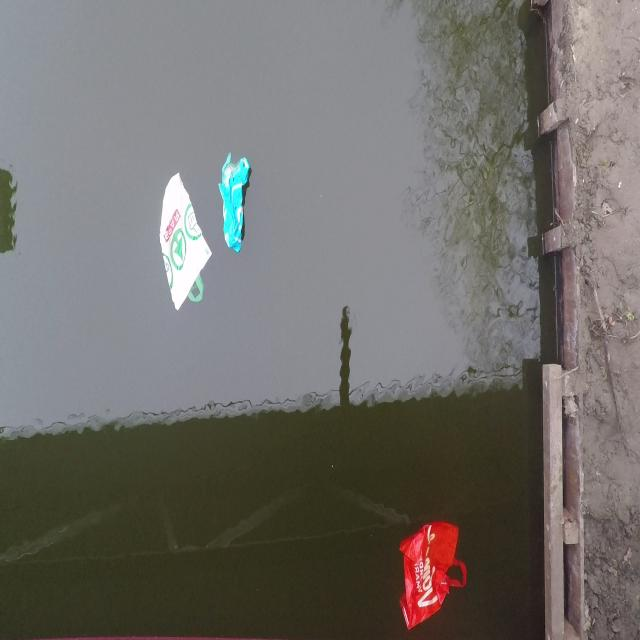Sac plastique: (388, 515, 473, 636), (154, 168, 214, 316), (216, 144, 258, 269)
